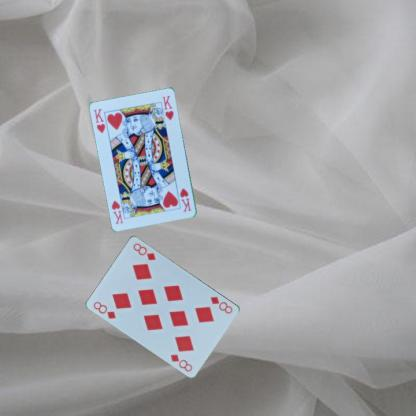8d: (208, 293, 234, 315), (91, 299, 117, 320)
Kh: (92, 106, 106, 135), (178, 186, 192, 213)
